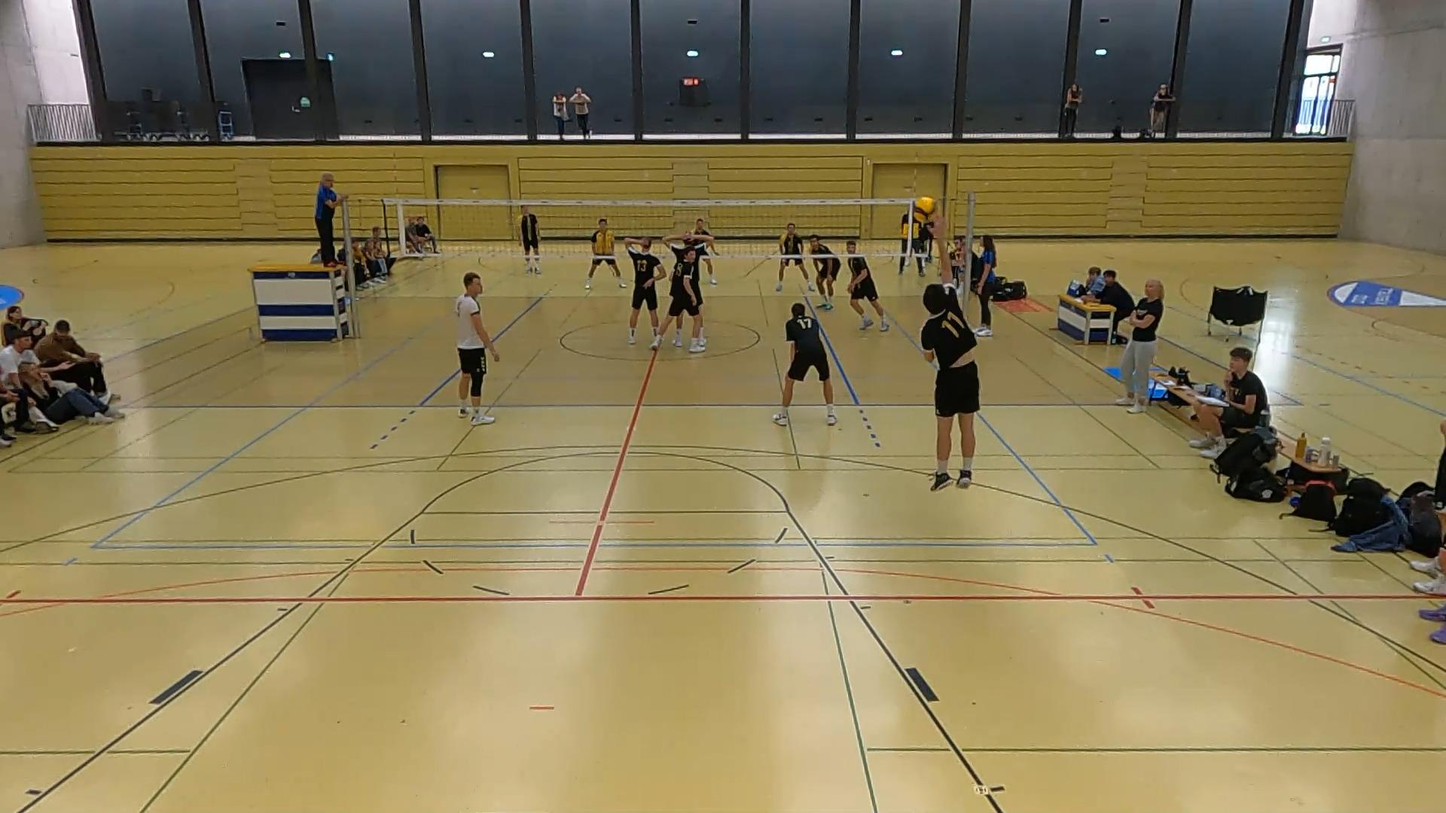battuta: (915, 217, 986, 495)
